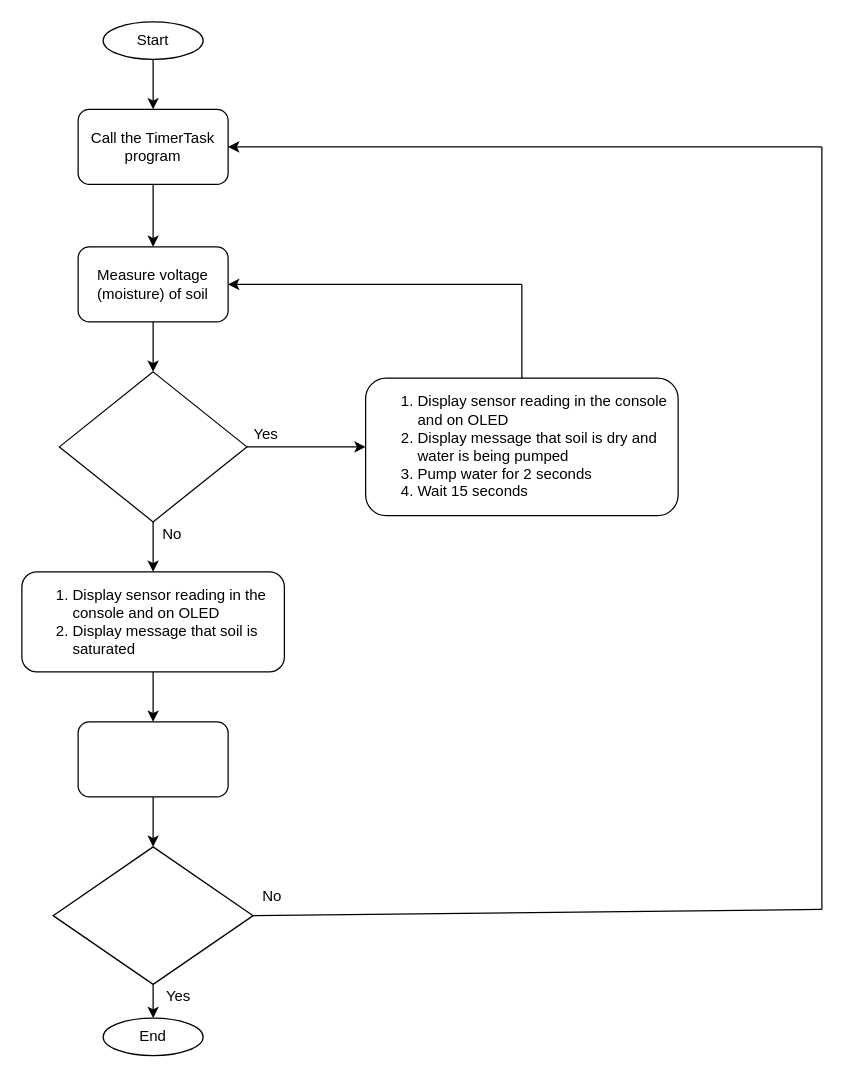
The diagram is 854 pixels wide and 1078 high, and some of its shapes have lost their labels. Each missing label, with the box of its shape:
Has the button been pressed?: (52, 846, 253, 984)
Voltage greater than saturated value?: (58, 371, 247, 522)
Wait for 1 hour: (77, 721, 228, 797)
